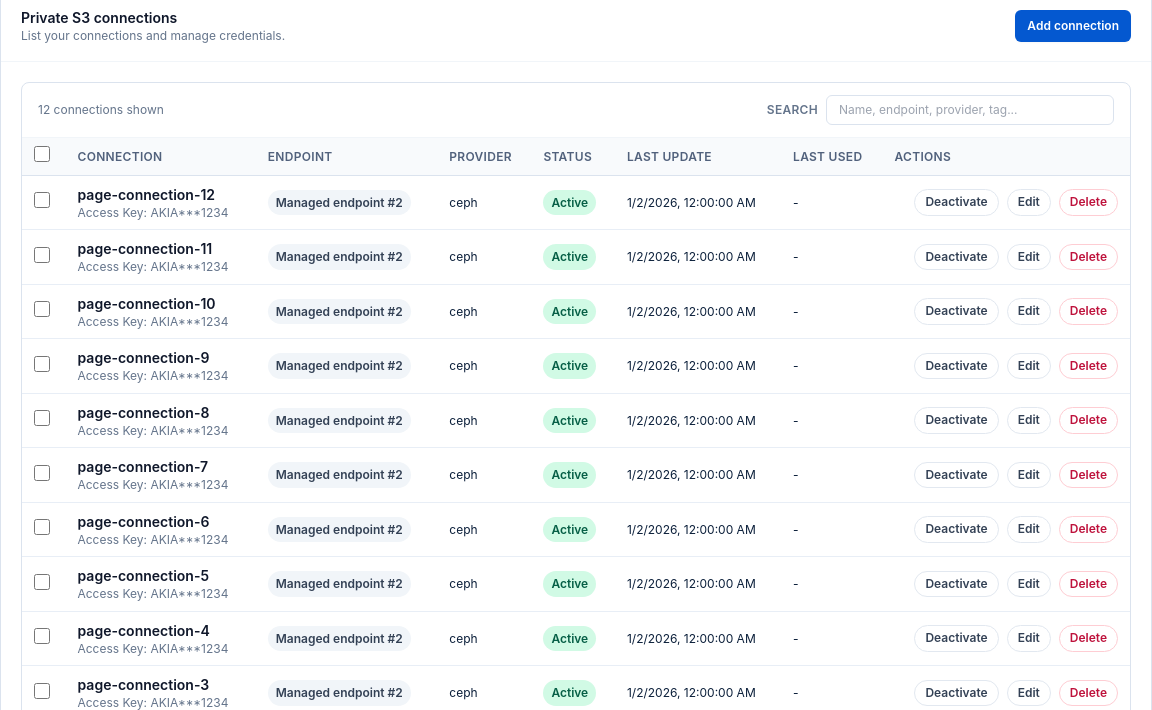
Test: ProfilePage live validation › clears private connection selection when changing page
Check: the text "page-connection-12" is shown, box [78,186,215,203]
Step 1. Click the checkbox named "Select private connection page-connection-12" → (42,200), box [34,192,50,208]
(page scrolled)
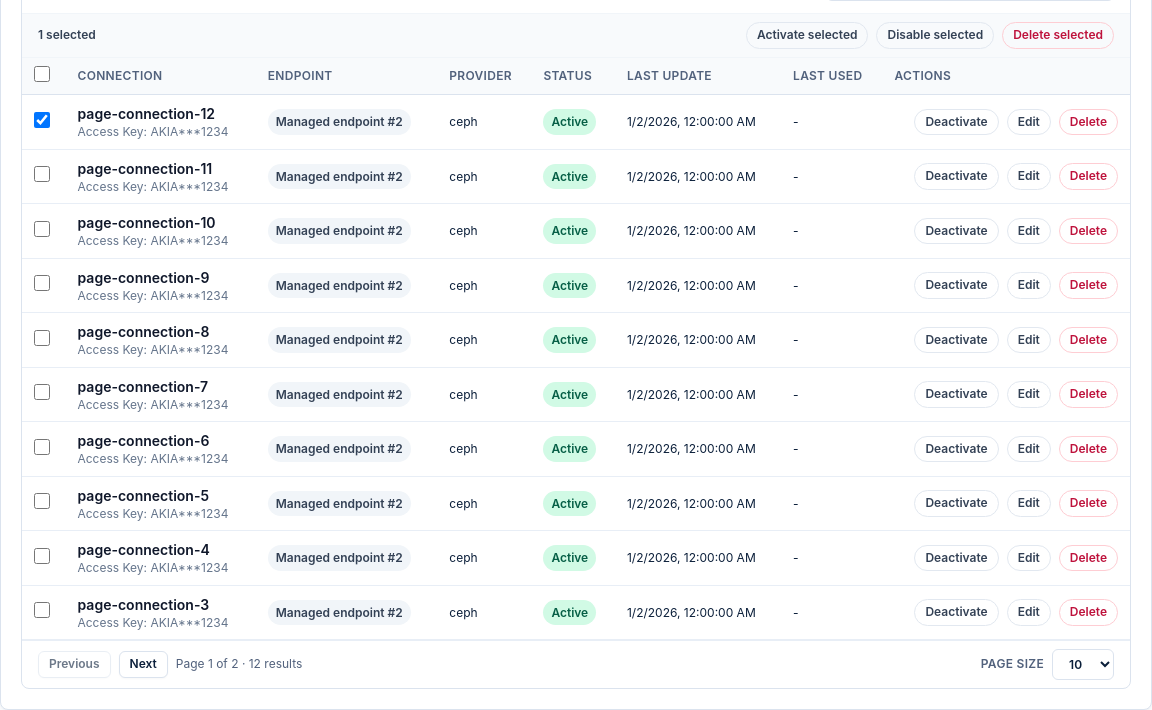
Check: the button "Disable selected" is shown, box [876,22,994,48]
Step 2. Click the button "Next" → (143,665), box [118,651,168,678]
(page scrolled)
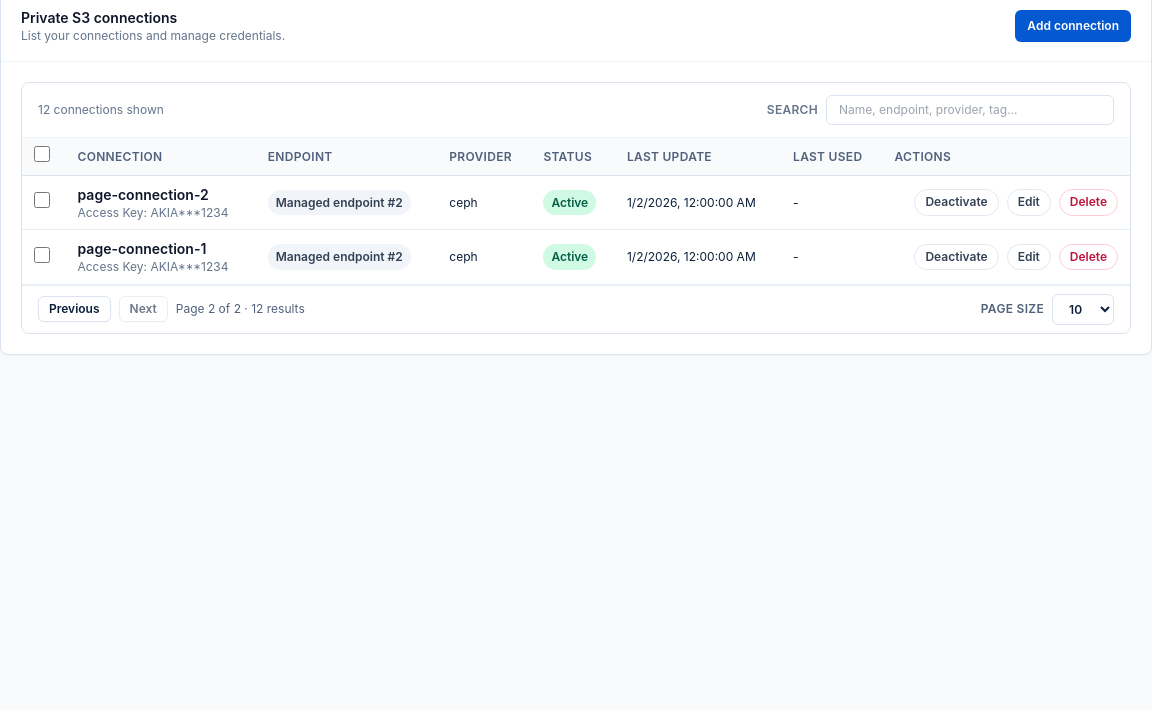
Check: the button "Disable selected" is gone
